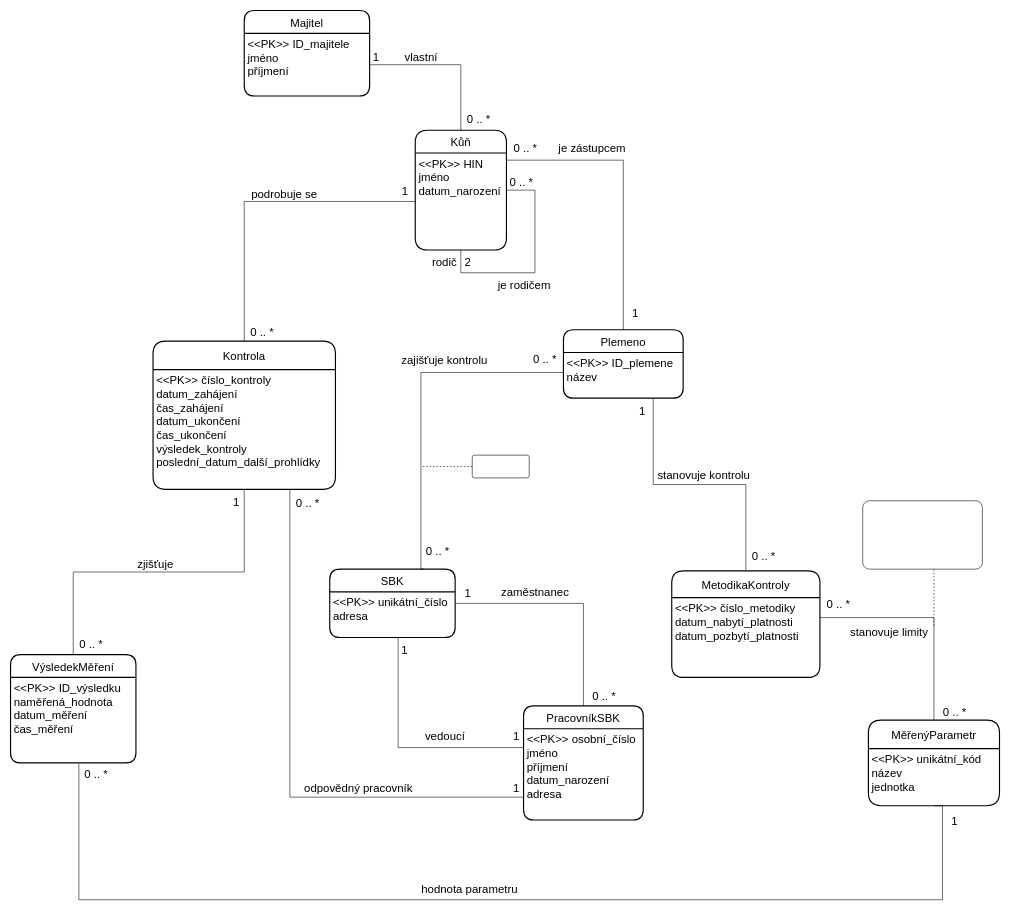
Image size: 1009x910. Some labels were removed from this diagram. Each missing label, with the centre of its shape:
"cena" belongs at point 500,466.
"dolní_limit_prošel horní_limit_prošel dolní_limit_opakovat horní_limit_opakovat" belongs at point 922,534.
